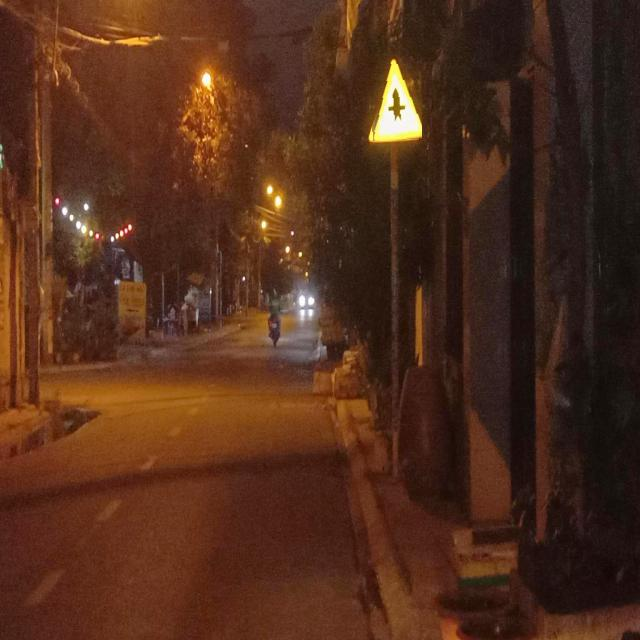giao_nhau_voi_duong_khong_uu_tien: (368, 56, 422, 141)
